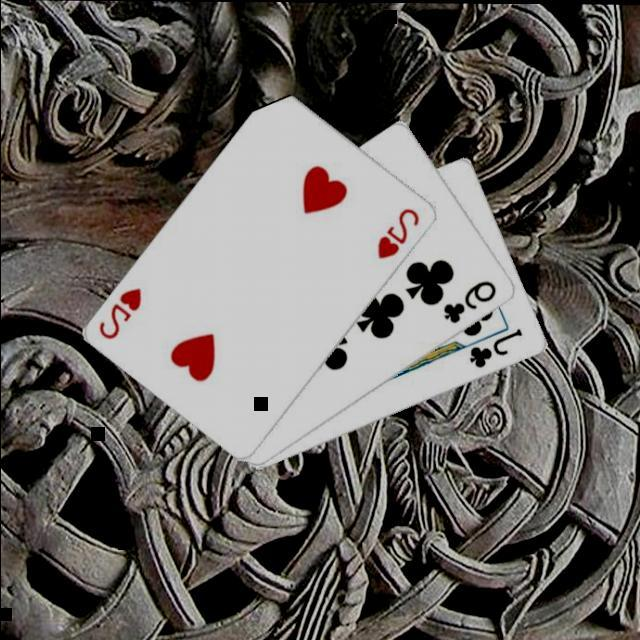2H: (96, 286, 146, 344), (375, 206, 424, 264)
9C: (441, 278, 501, 328)
JC: (467, 327, 527, 373)
